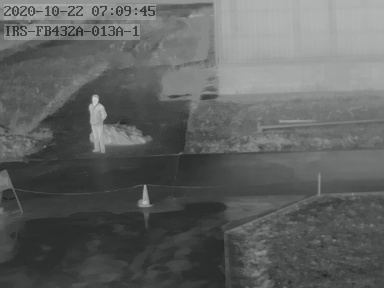person: (87, 94, 106, 153)
